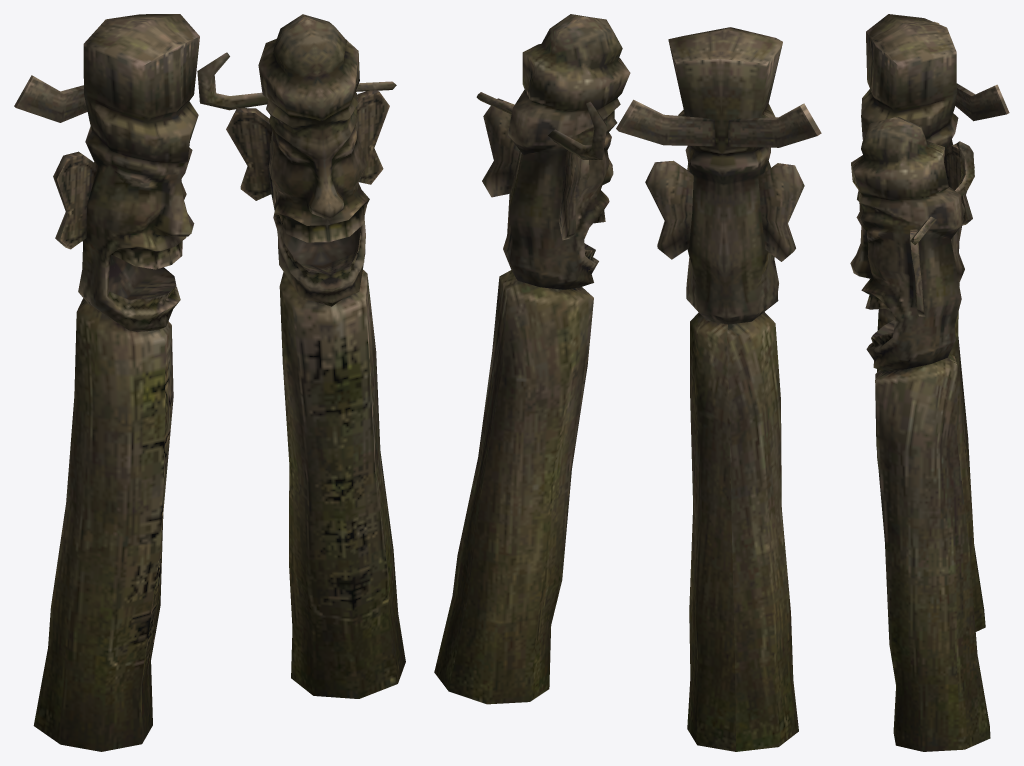
Rendered from treestatue_01.fbx.
3 views of the same model, side by side, from view 1: azimuth 30°, elevation 25°; view 2: azimuth 150°, elevation 25°; view 3: azimuth 270°, elevation 25° (orthographic). The views are drawn at different scales.
Parts seen in each view (by area): view 1: TreeStatue_01; view 2: TreeStatue_01; view 3: TreeStatue_01.
Boxes of the visible parts, x1=… form: TreeStatue_01: x1=14, y1=14, x2=405, y2=751; TreeStatue_01: x1=434, y1=14, x2=821, y2=751; TreeStatue_01: x1=850, y1=14, x2=1009, y2=751.
Bounding box in the file's own units: 6.24 × 11.2 × 2.6.
